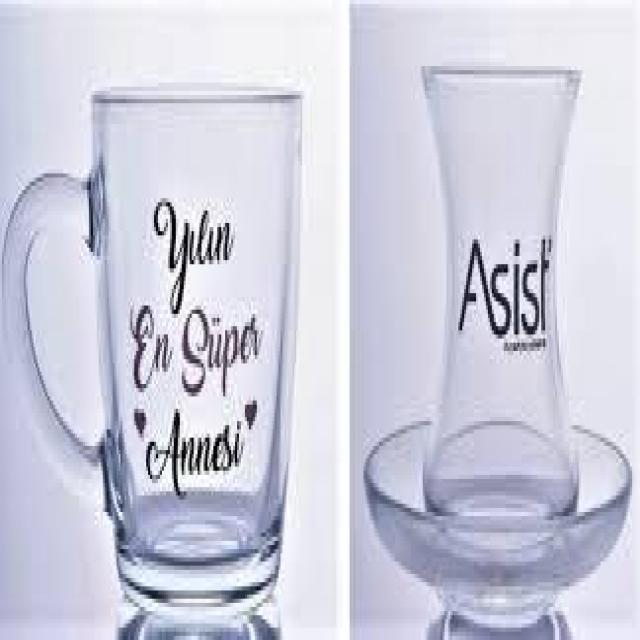non-organic waste: (0, 78, 310, 620), (360, 48, 632, 630)
